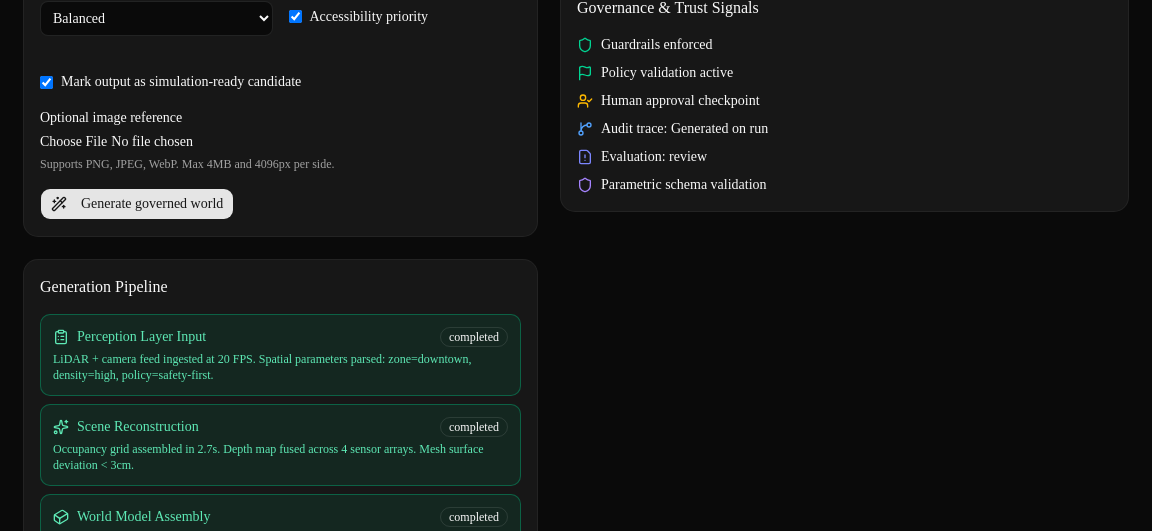
Test: WorldGenerationPage › supports revision request while preserving preview and scenario switching
(page scrolled)
Click the button "Generate governed world" at point(137, 204), box [40, 188, 234, 220]
(page scrolled)
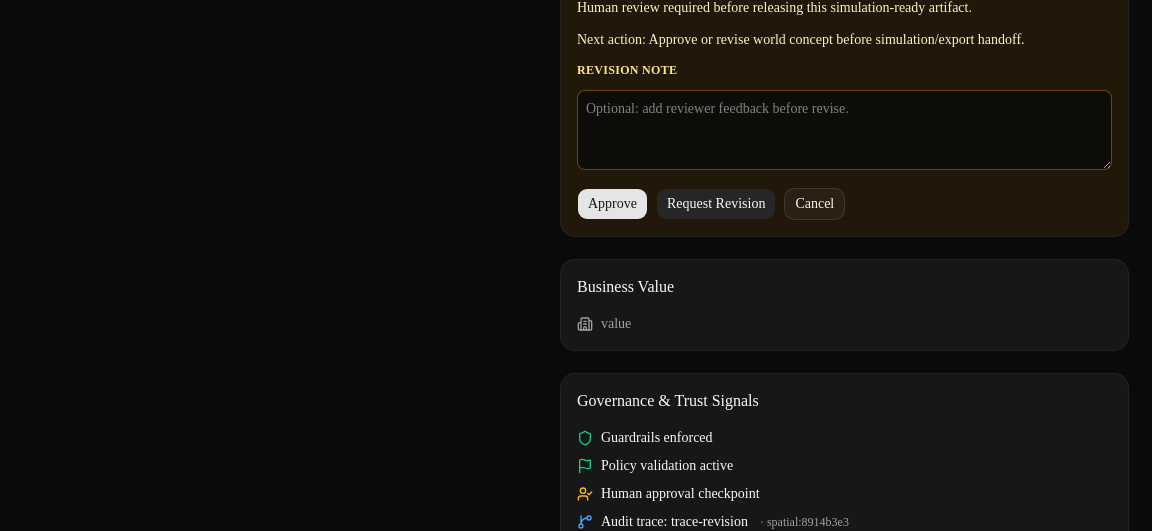
Click the button "Request Revision" at point(716, 204), box [656, 188, 776, 220]
(page scrolled)
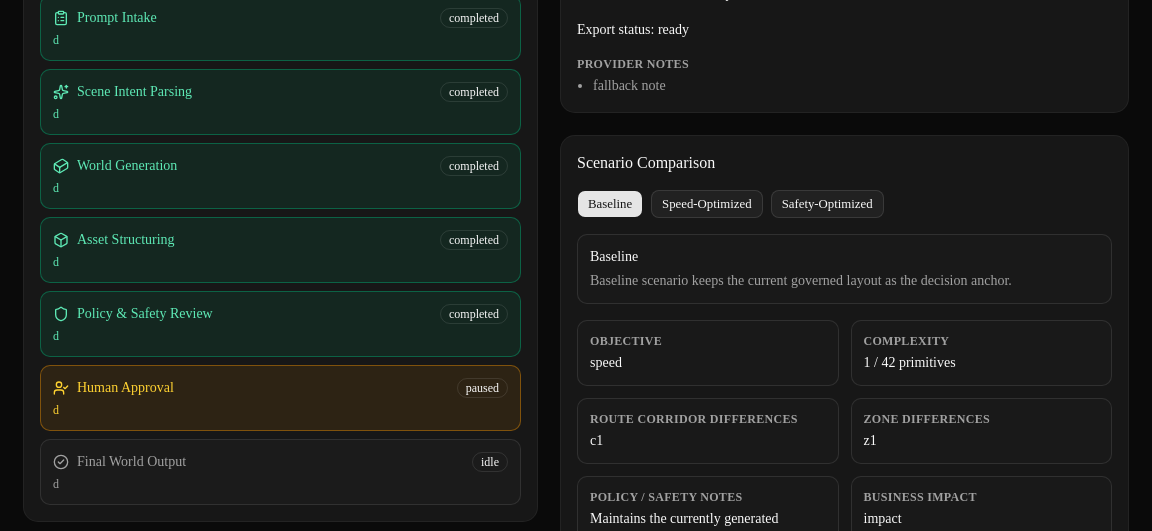
Click the button with test id "scenario-safety" at point(827, 204), box [771, 190, 884, 218]
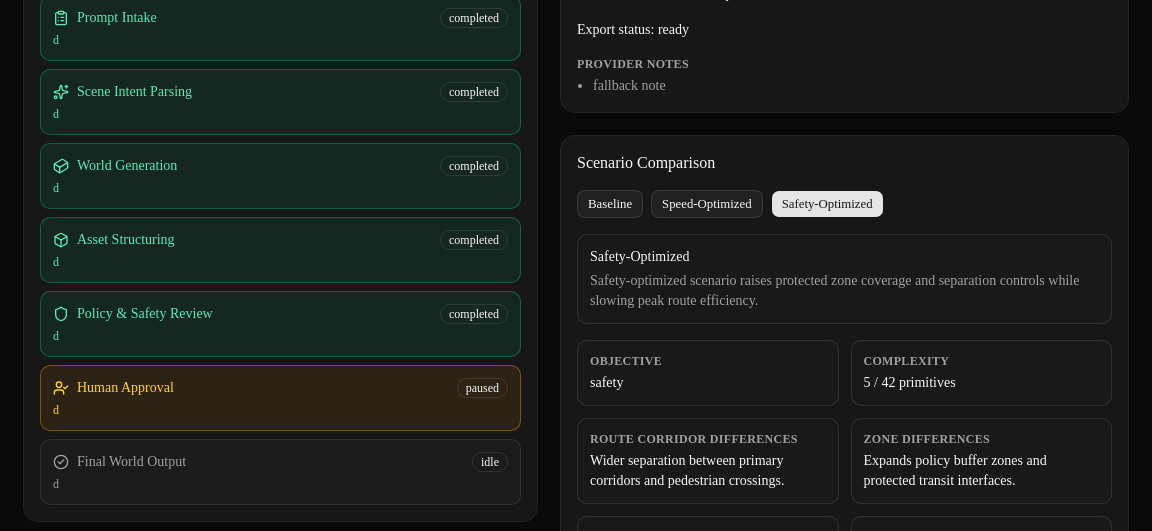
Expected: the text "Safety-optimized scenario" is shown, [590, 273, 1079, 308]
